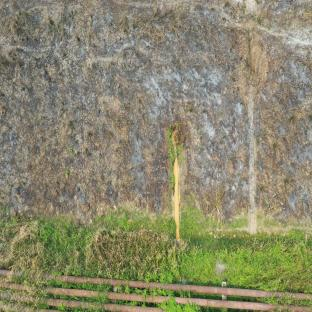slope_drain: (241, 27, 260, 239), (170, 124, 182, 246)
toe_drain: (159, 221, 312, 245)
